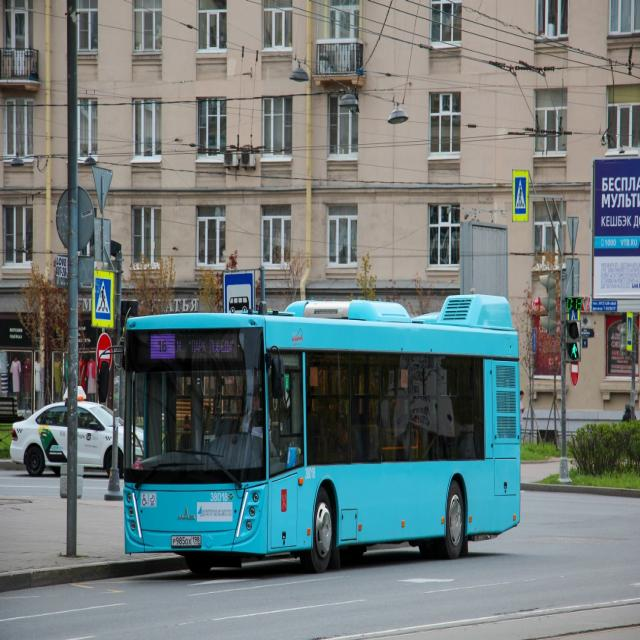number-of-bus: (157, 339, 171, 355)
